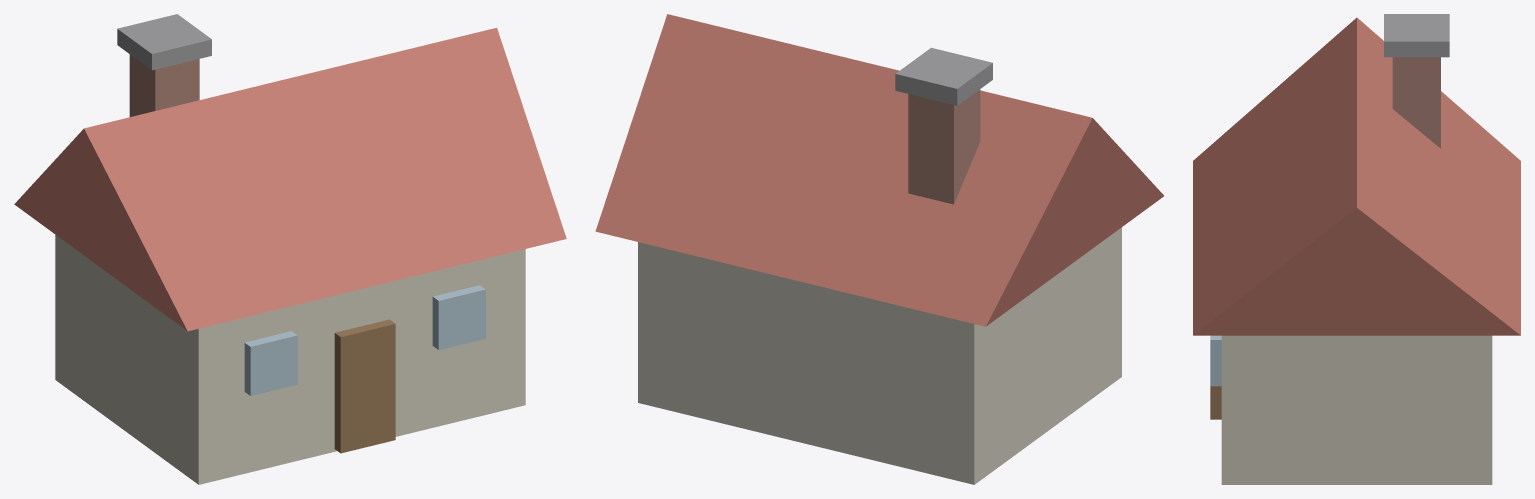
The picture shows the model from 3 angles, left to right: view 1: azimuth 30°, elevation 25°; view 2: azimuth 150°, elevation 25°; view 3: azimuth 270°, elevation 25°; orthographic projection. The views are drawn at different scales.
Parts seen in each view (by area): view 1: part1, part0, part4, part3, part2, part5, part6; view 2: part1, part0, part2, part3; view 3: part1, part0, part2, part3, part6, part4.
Part boxes in pixels (left/top/right/bottom): part1: left=14, top=27, right=566, bottom=331; part0: left=55, top=235, right=525, bottom=484; part4: left=334, top=319, right=395, bottom=453; part3: left=117, top=14, right=211, bottom=70; part2: left=129, top=54, right=199, bottom=116; part5: left=244, top=331, right=297, bottom=395; part6: left=432, top=285, right=485, bottom=349; part1: left=595, top=14, right=1163, bottom=326; part0: left=638, top=227, right=1121, bottom=484; part2: left=908, top=89, right=980, bottom=204; part3: left=895, top=47, right=992, bottom=105; part1: left=1193, top=17, right=1520, bottom=335; part0: left=1221, top=335, right=1492, bottom=484; part2: left=1392, top=57, right=1440, bottom=148; part3: left=1384, top=14, right=1449, bottom=57; part6: left=1210, top=335, right=1221, bottom=386; part4: left=1210, top=386, right=1221, bottom=419.
Bounding box in the file's own units: 3.16 × 2.62 × 2.3.
